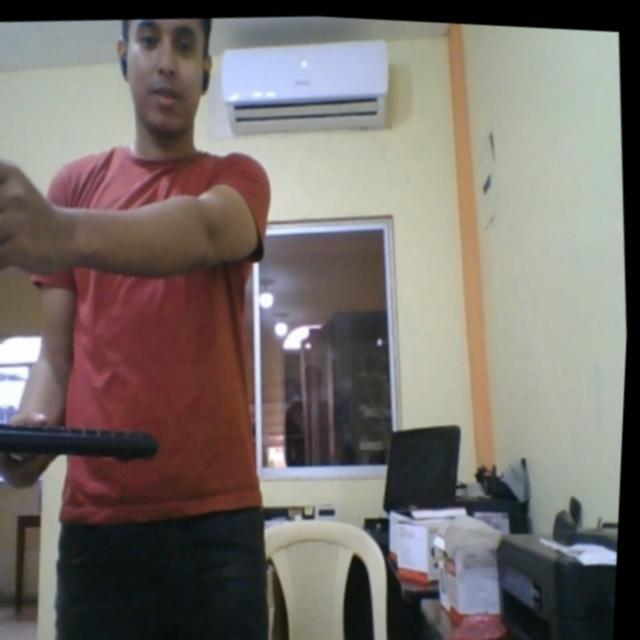weapon: (0, 111, 7, 212)
